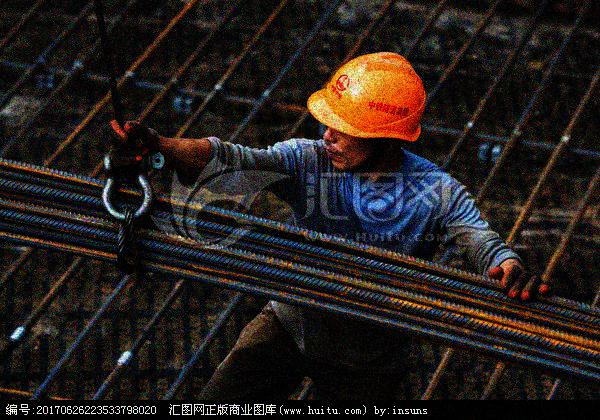helmet: (302, 49, 428, 169)
